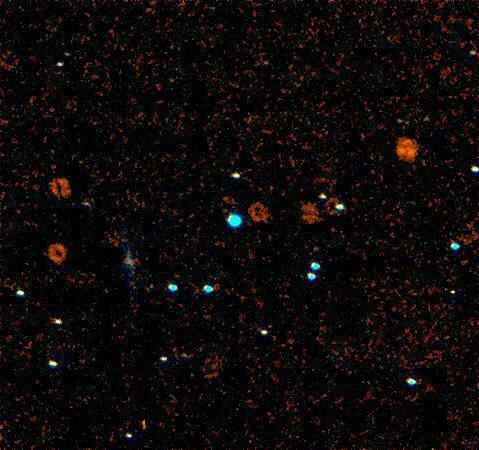star: (128, 408, 158, 438)
